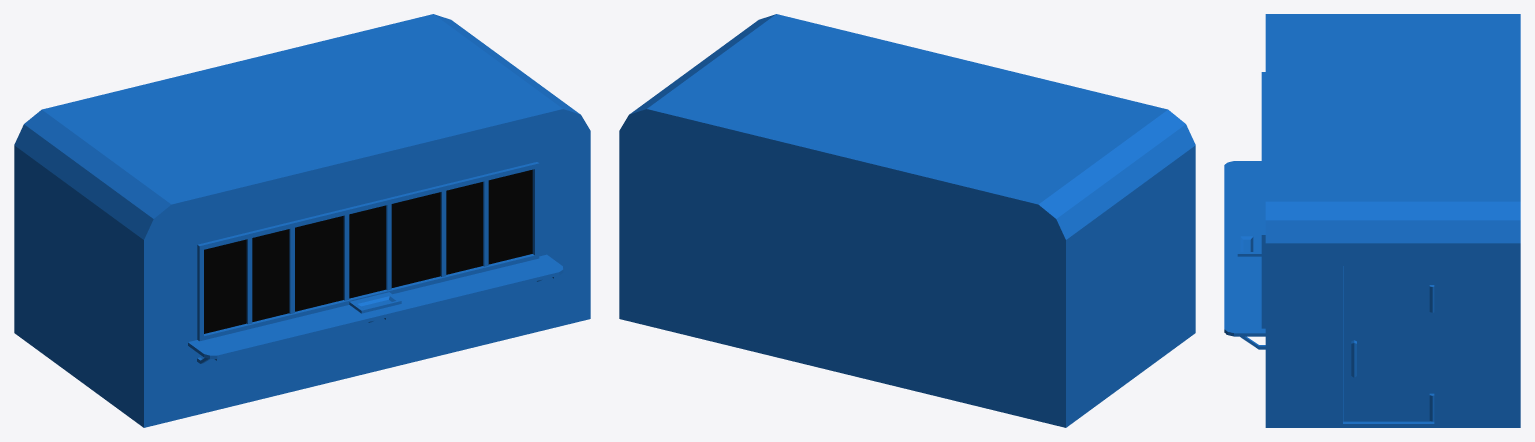
File: SM_shop.fbx
The picture shows the model from 3 angles, left to right: view 1: azimuth 30°, elevation 25°; view 2: azimuth 150°, elevation 25°; view 3: azimuth 270°, elevation 25°; orthographic projection.
Visible parts, largest first — view 1: Cube_16; view 2: Cube_16; view 3: Cube_16, Cylinder_6.
Part boxes in pixels (x1=…): Cube_16: x1=14, y1=14, x2=590, y2=427; Cube_16: x1=619, y1=14, x2=1195, y2=427; Cube_16: x1=1224, y1=14, x2=1520, y2=427; Cylinder_6: x1=1343, y1=266, x2=1434, y2=421.
Bounding box in the file's own units: 6127 × 2830 × 3569.
